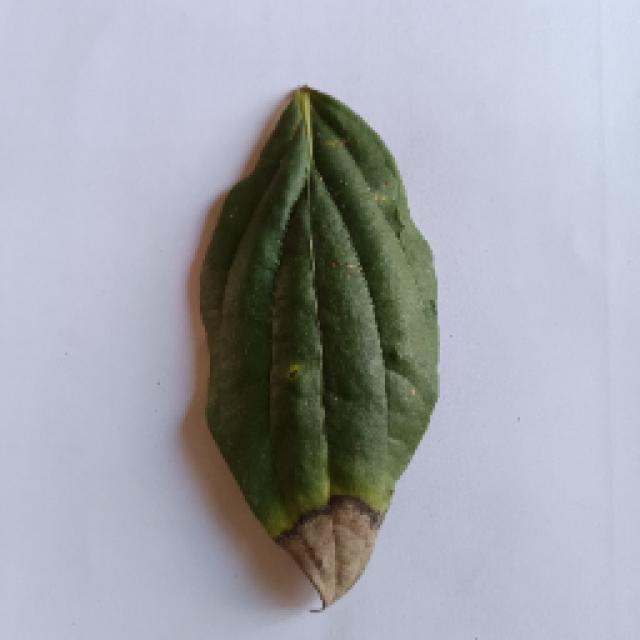footrot: (192, 85, 442, 613)
